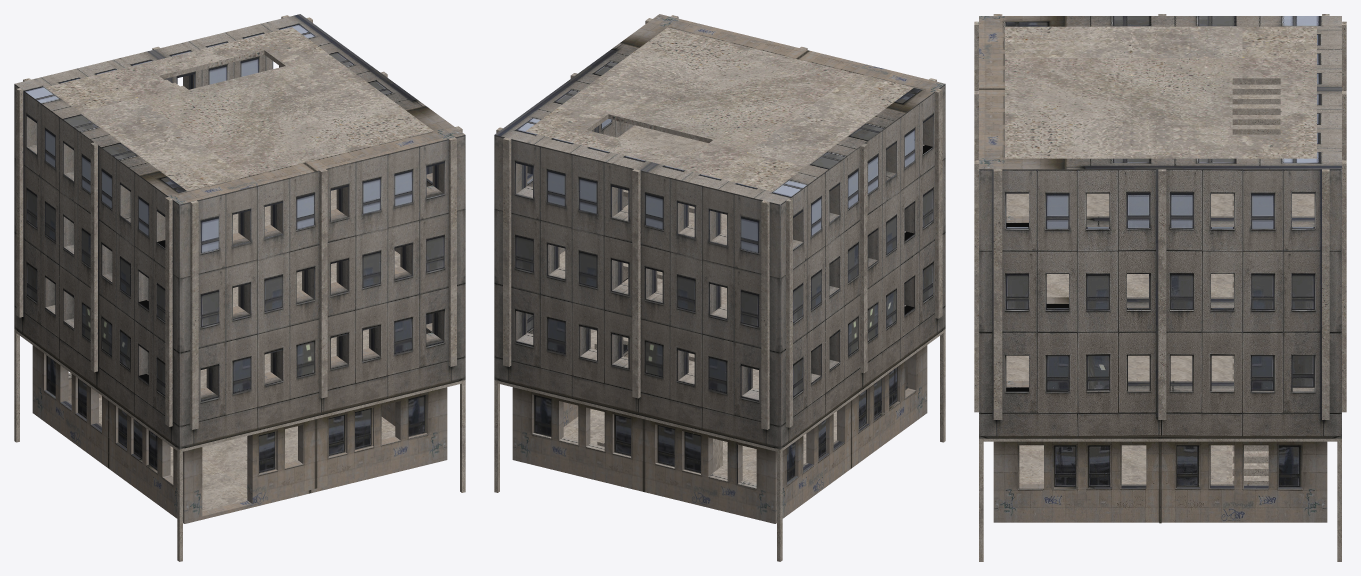
The model's file is BagSS01base_high.fbx.
The picture shows the model from 3 angles, left to right: view 1: azimuth 30°, elevation 25°; view 2: azimuth 150°, elevation 25°; view 3: azimuth 270°, elevation 25°; orthographic projection. The views are drawn at different scales.
Visible parts, largest first — view 1: b_B700, b_A700; view 2: b_B700, b_A700; view 3: b_B700, b_A700, stairsD, stairsA.
Boxes of the visible parts, bbox=[...] form: b_B700: bbox=[14, 14, 465, 523]; b_A700: bbox=[14, 15, 465, 561]; b_B700: bbox=[494, 14, 945, 523]; b_A700: bbox=[494, 15, 945, 561]; b_B700: bbox=[979, 16, 1341, 523]; b_A700: bbox=[974, 14, 1346, 561]; stairsD: bbox=[1232, 74, 1280, 215]; stairsA: bbox=[1232, 445, 1268, 484].
Size of the model in its own units: 17.99 by 20.93 by 17.98.
